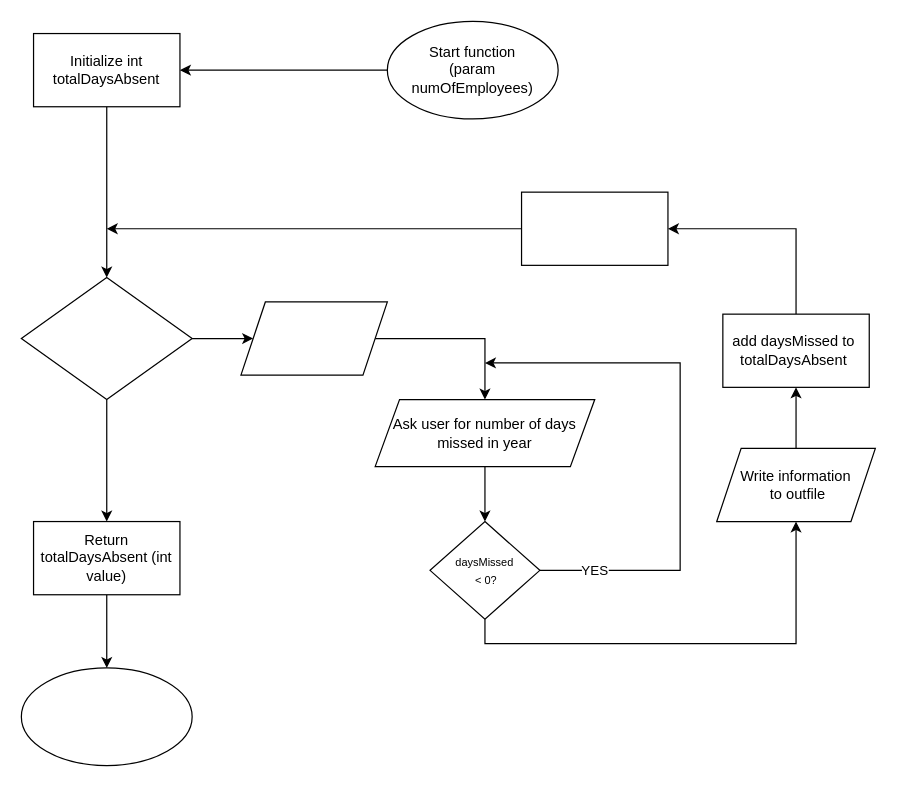
Some shapes in this 897 by 787 pixel diagram are drawn without their labels. Here are the shapes that lost their labels. From the top down, the box of each, then its label:
(520, 191, 668, 265): add 1 to i
(20, 276, 192, 400): i < numOfEmployees
(240, 301, 387, 375): Read employee id number
(20, 667, 192, 766): End function (param numOfEmployees)
